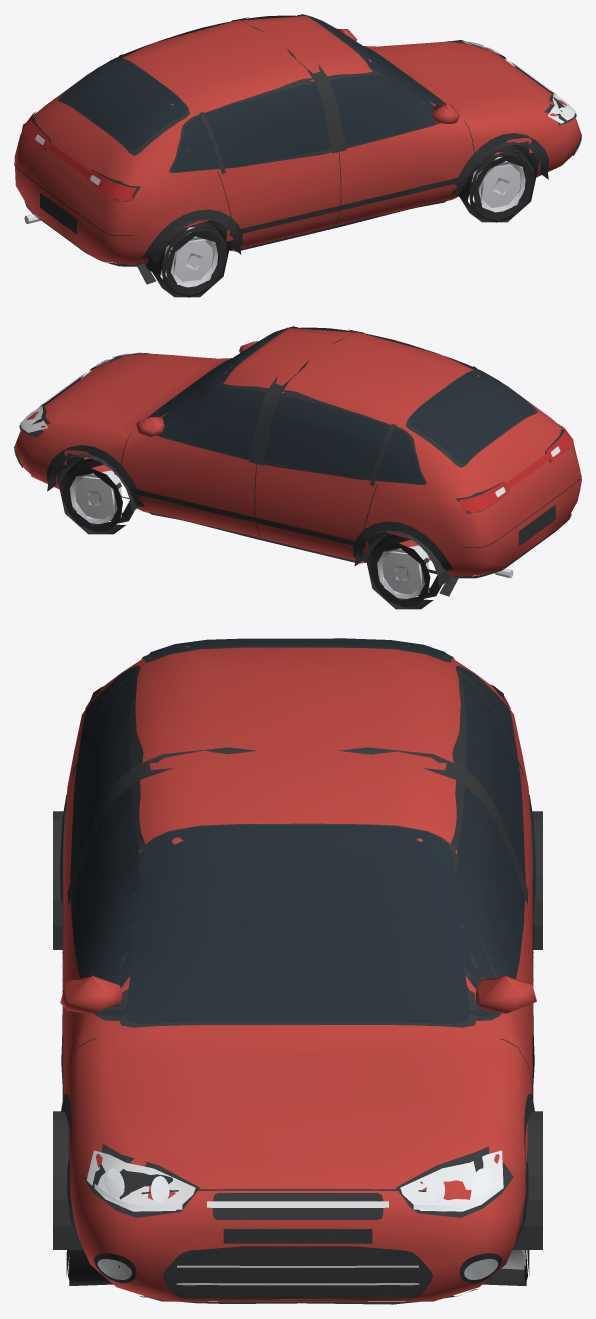
The model's file is lutece_far.glb.
3 renders of one model, top to bottom at view 1: azimuth 30°, elevation 25°; view 2: azimuth 150°, elevation 25°; view 3: azimuth 270°, elevation 25°, orthographic. The views are drawn at different scales.
Visible parts, largest first — view 1: Body, Glass-1, RearGlass, WheelFR, WheelRR, Windshield, WinFrame-1, ArchTrim-1.001, Bpillar-1, Rub-1, ArchTrim-1, TailLamp (+8 smaller); view 2: Body, Glass1, RearGlass, WheelFL, WheelRL, WinFrame1, Windshield, ArchTrim1.001, Bpillar1, Rub1, ArchTrim1, TailLamp (+8 smaller); view 3: Body, Windshield, Glass-1, Glass1, Intake, HeadReflector, GrilleUpper, HeadBezel, WsFrame, ArchLiner, ArchLiner.001, RearGlass (+17 smaller).
Part boxes in pixels (<box>): Body: <box>14,16,581,264</box>; Glass-1: <box>171,65,438,172</box>; RearGlass: <box>60,58,186,151</box>; WheelFR: <box>460,145,536,222</box>; WheelRR: <box>152,221,229,297</box>; Windshield: <box>301,14,446,104</box>; WinFrame-1: <box>169,71,440,172</box>; ArchTrim-1.001: <box>136,209,242,284</box>; Bpillar-1: <box>287,49,346,153</box>; Rub-1: <box>229,177,462,236</box>; ArchTrim-1: <box>451,133,548,194</box>; TailLamp: <box>22,115,136,200</box>; Body: <box>14,327,581,576</box>; Glass1: <box>156,384,423,484</box>; RearGlass: <box>409,370,535,463</box>; WheelFL: <box>59,457,134,534</box>; WheelRL: <box>366,533,441,609</box>; WinFrame1: <box>156,383,426,484</box>; Windshield: <box>147,326,294,417</box>; ArchTrim1.001: <box>353,521,458,596</box>; Bpillar1: <box>249,360,308,465</box>; Rub1: <box>133,489,366,547</box>; ArchTrim1: <box>47,445,144,506</box>; TailLamp: <box>459,426,573,512</box>; Body: <box>63,645,532,1301</box>; Windshield: <box>125,825,470,1024</box>; Glass-1: <box>71,668,245,1016</box>; Glass1: <box>350,668,524,1016</box>; Intake: <box>163,1246,432,1298</box>; HeadReflector: <box>86,1150,503,1211</box>; GrilleUpper: <box>212,1193,383,1219</box>; HeadBezel: <box>84,1144,513,1217</box>; WsFrame: <box>118,823,477,1027</box>; ArchLiner: <box>513,1111,542,1249</box>; ArchLiner.001: <box>53,1111,82,1249</box>; RearGlass: <box>149,638,445,657</box>.
Size of the model in its own units: 4.06 by 1.46 by 1.78.
